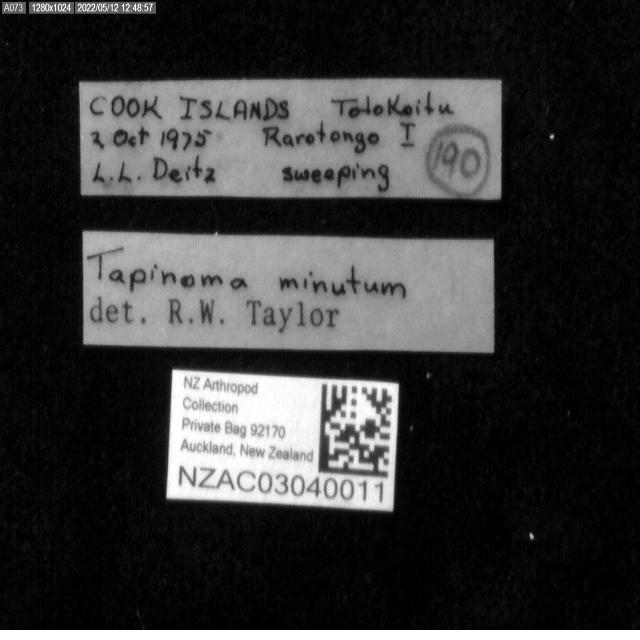hand_label: (79, 78, 501, 200)
mixed_label: (82, 231, 495, 353)
typed_label: (166, 370, 399, 511)
